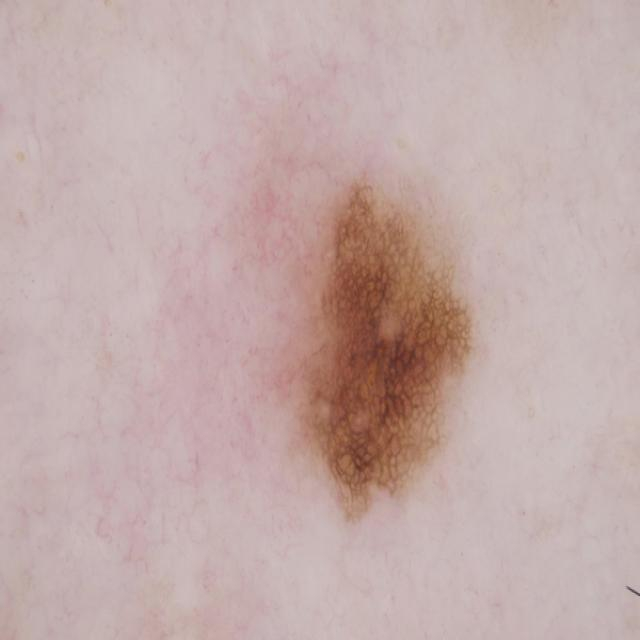Skin-Cancer Pigmented benign keratosis: (29, 20, 612, 579)
